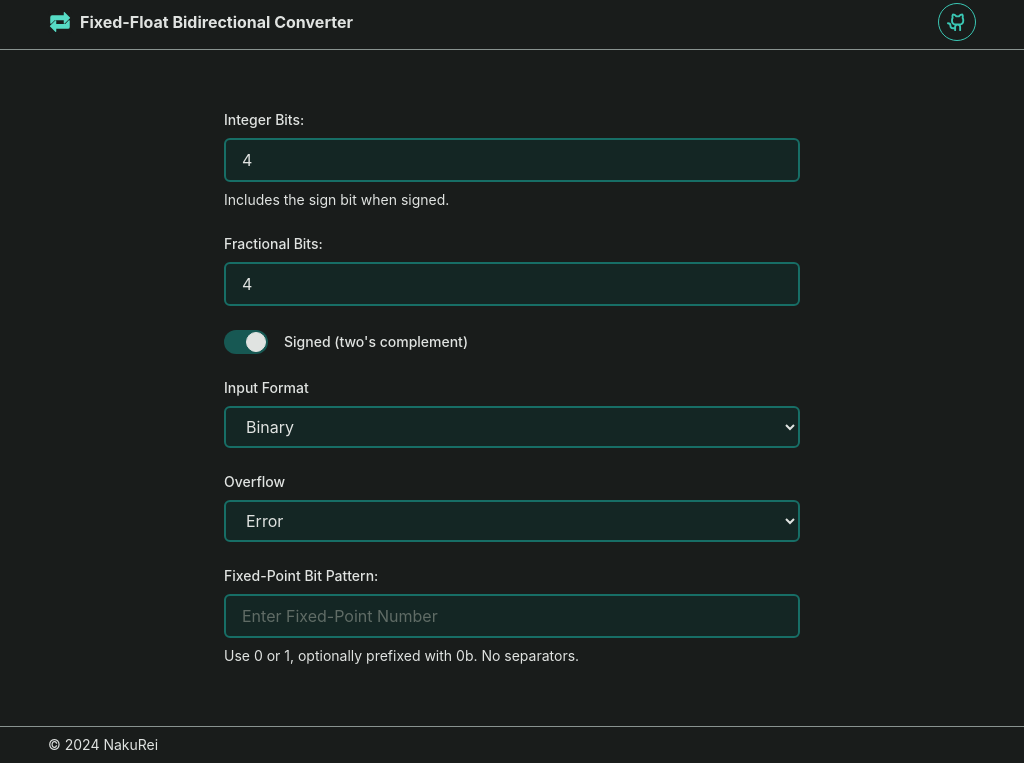
Scenario: Original and converted output values › preserves 00010100 entered as binary
Select "Binary" in the dropdown labelled "Input Format" at (512, 427), box [224, 406, 800, 448]
Type "00010100" into the field labelled "Fixed-Point Bit Pattern:".
click(512, 616); type("00010100")  # box [224, 594, 800, 638]
(page scrolled)
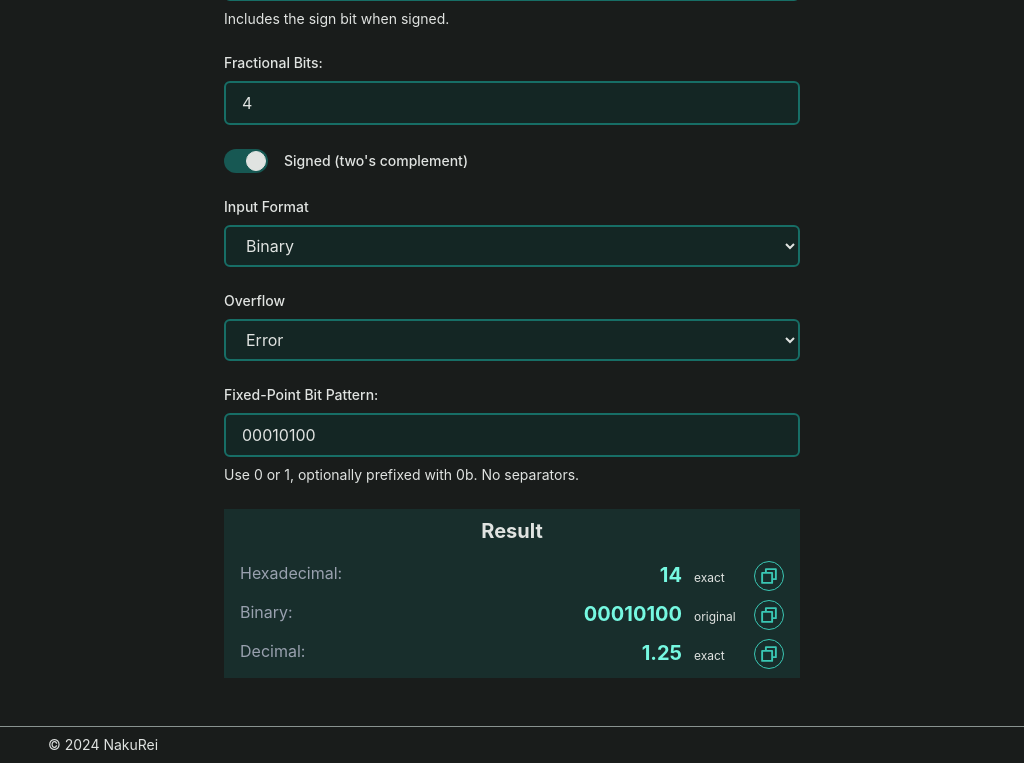
expect the text "14" is shown: met, box [660, 561, 682, 589]
expect the text "exact" next to "14" is shown: met, box [694, 570, 725, 585]
expect the text "00010100" is shown: met, box [584, 600, 682, 628]
